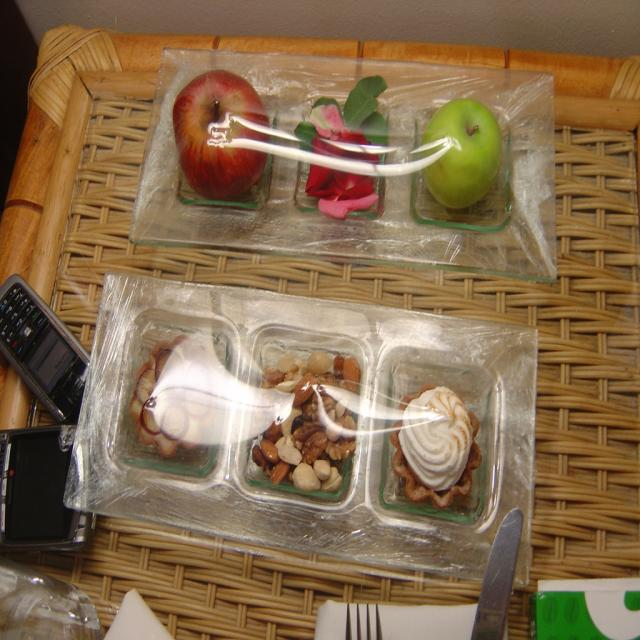Healty Apple: (174, 69, 272, 201), (419, 96, 508, 212)
